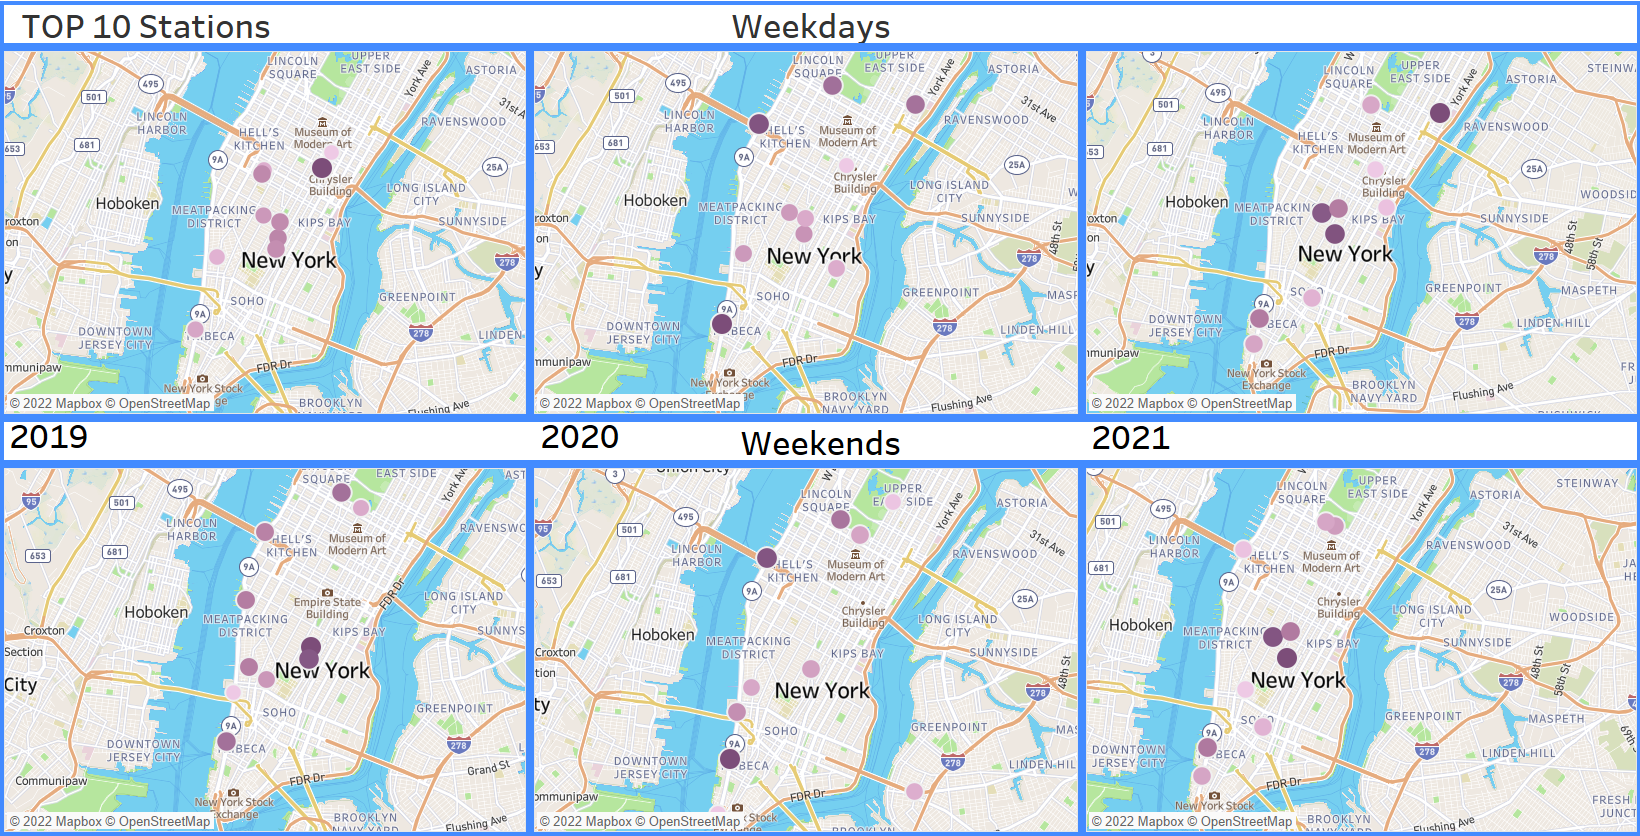

This screenshot's page, from the dashboard's own definition file:
{"tool":"tableau","page":{"name":"popular stations","canvas":[1000,1000],"units":"permille","ordinal":3},"visuals":[{"type":"title","box":[4.8,9.4,990.3,54.1]},{"type":"worksheet","title":"map 2019 1","mark":"Automatic","rows":["start_lat"],"cols":["start_lng"],"box":[4.8,63.5,320,435.4]},{"type":"worksheet","title":"map 2020 1","mark":"Automatic","rows":["start_lat"],"cols":["start_lng"],"box":[324.9,63.5,333.1,435.4]},{"type":"worksheet","title":"map 2021 1","mark":"Automatic","rows":["start_lat"],"cols":["start_lng"],"box":[658,63.5,337.2,435.4]},{"type":"text","box":[8.4,497.1,51.3,42.3]},{"type":"text","box":[4.8,498.8,990.3,54.2]},{"type":"text","box":[328.9,499.4,51.9,38.8]},{"type":"text","box":[661.4,499.4,55.5,41.1]},{"type":"worksheet","title":"map 2019 0","mark":"Automatic","rows":["start_lat"],"cols":["start_lng"],"box":[4.8,553.1,320,437.5]},{"type":"worksheet","title":"map 2020 0","mark":"Automatic","rows":["start_lat"],"cols":["start_lng"],"box":[324.9,553.1,333.1,437.5]},{"type":"worksheet","title":"map 2021 0","mark":"Automatic","rows":["start_lat"],"cols":["start_lng"],"box":[658,553.1,337.2,437.5]}]}

Visuals, with their boxes on the dashboard's canvas, which has no fixed pixel size, in thousandths of its width and height (x1, y1, x2, y2). These are canvas units, not pixel positions in the 1640x836 screenshot, which may show the page scaled, cropped or inside an application window:
title: [5, 9, 995, 64]
"map 2019 1" worksheet: [5, 64, 325, 499]
"map 2020 1" worksheet: [325, 64, 658, 499]
"map 2021 1" worksheet: [658, 64, 995, 499]
text: [8, 497, 60, 539]
text: [5, 499, 995, 553]
text: [329, 499, 381, 538]
text: [661, 499, 717, 540]
"map 2019 0" worksheet: [5, 553, 325, 991]
"map 2020 0" worksheet: [325, 553, 658, 991]
"map 2021 0" worksheet: [658, 553, 995, 991]
